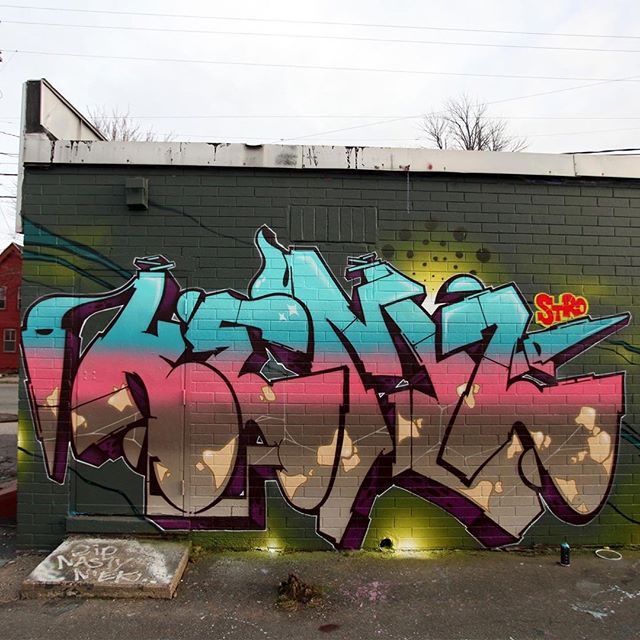graffiti: (24, 240, 640, 559)
sky: (1, 1, 635, 149)
